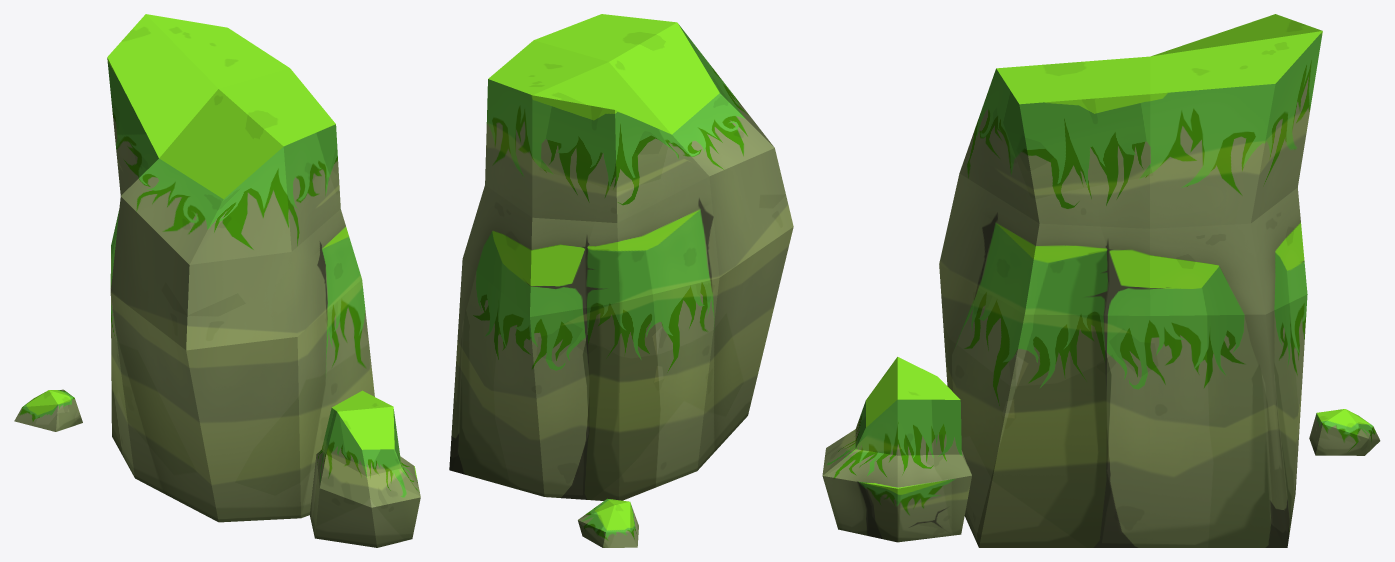
Rendered from F_W_O_rock_018.fbx.
3 renders of one model, left to right at view 1: azimuth 30°, elevation 25°; view 2: azimuth 150°, elevation 25°; view 3: azimuth 270°, elevation 25°, orthographic. The views are drawn at different scales.
Visible parts, largest first — view 1: F_W_O_rock_018; view 2: F_W_O_rock_018; view 3: F_W_O_rock_018.
Part boxes in pixels (x1,y1,x2,y2): F_W_O_rock_018: (14, 14, 420, 547); F_W_O_rock_018: (449, 14, 793, 547); F_W_O_rock_018: (822, 14, 1380, 547).
Bounding box in the file's own units: 4.75 × 8.44 × 9.22.
